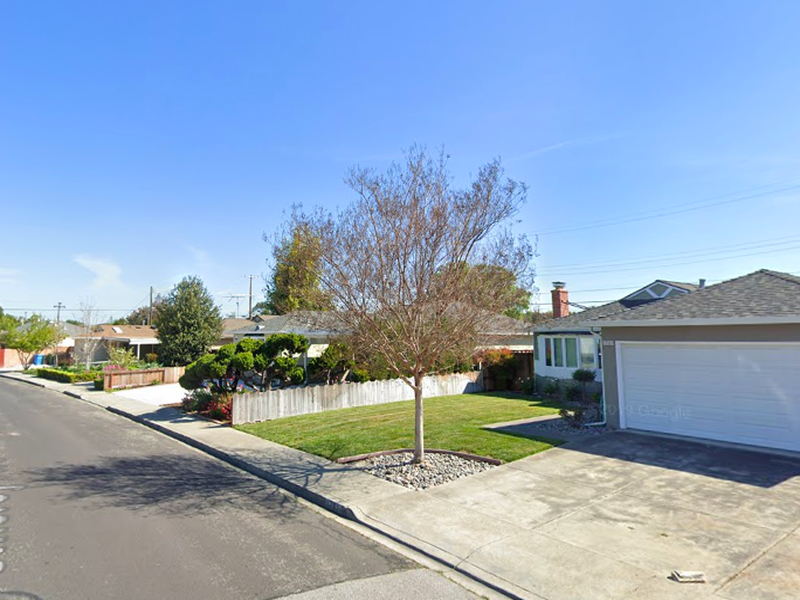tree: (259, 140, 542, 467)
